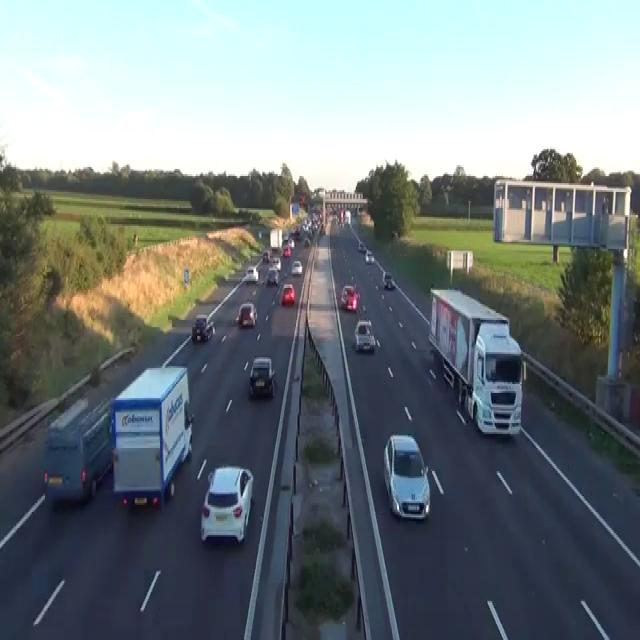Car: (200, 464, 253, 544), (383, 434, 430, 519), (46, 396, 88, 448), (249, 356, 275, 398), (354, 318, 375, 352), (181, 407, 193, 462), (191, 315, 214, 341), (236, 302, 257, 327), (340, 285, 359, 311), (280, 282, 295, 306), (245, 265, 258, 283), (266, 267, 278, 286), (345, 292, 357, 311), (382, 270, 394, 288), (291, 260, 302, 276), (271, 256, 281, 270), (290, 224, 300, 238), (365, 249, 374, 263), (262, 249, 271, 263), (384, 279, 395, 290), (357, 240, 366, 252), (282, 245, 291, 256), (303, 237, 310, 247), (282, 235, 289, 245), (391, 230, 398, 238), (288, 238, 294, 247), (300, 196, 305, 206), (258, 230, 262, 238)
Truck: (427, 286, 525, 438), (108, 364, 193, 510), (42, 395, 114, 505)
